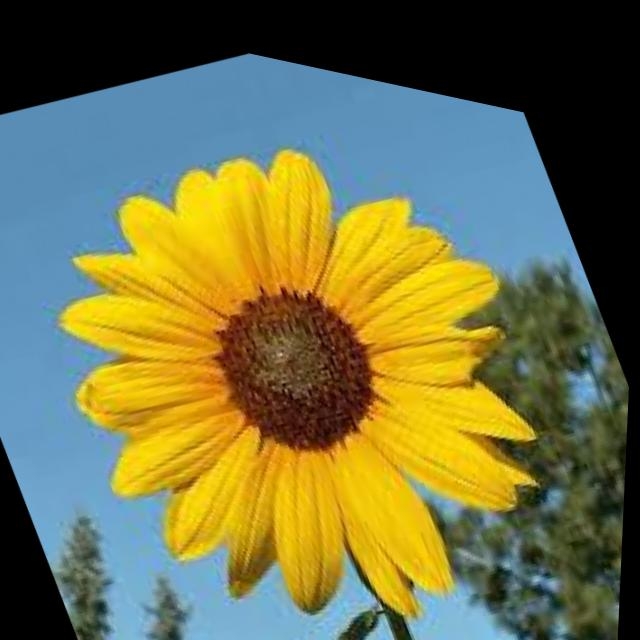Flower: (2, 18, 609, 640)
